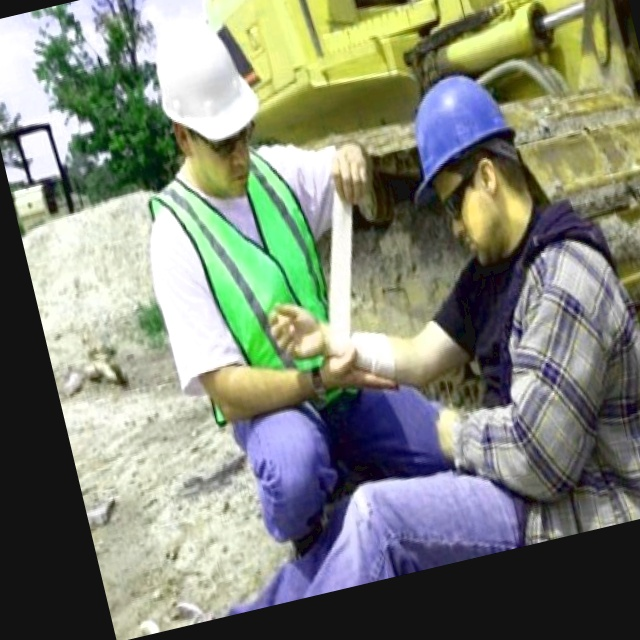Con_Chaleco: (134, 134, 349, 427)
Sin_Chaleco: (440, 212, 640, 538)
